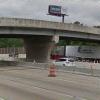Bridge: (1, 10, 94, 49)
